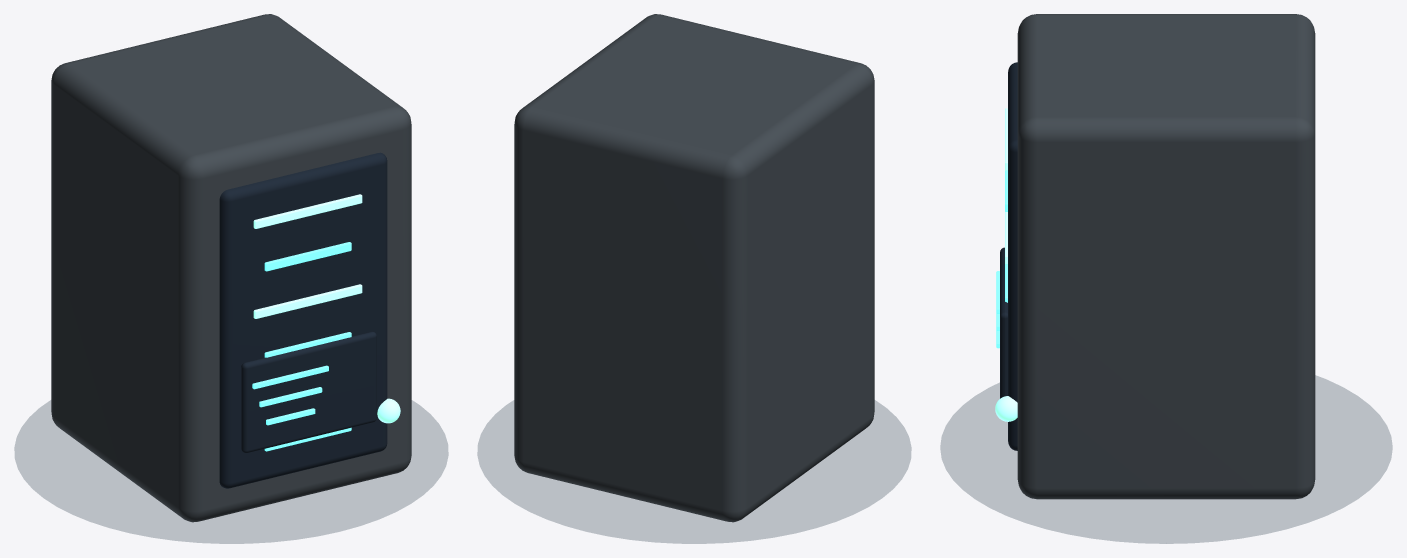
The model's file is server.glb.
3 views of the same model, side by side, from view 1: azimuth 30°, elevation 25°; view 2: azimuth 150°, elevation 25°; view 3: azimuth 270°, elevation 25° (orthographic). The views are drawn at different scales.
Parts seen in each view (by area): view 1: server_rack_shell, server_dark_face, server_contact_shadow, server_terminal, server_led_row_2, server_led_row_0, server_led_row_1, server_led_row_3, server_term_line_0; view 2: server_rack_shell, server_contact_shadow; view 3: server_rack_shell, server_contact_shadow, server_dark_face, server_terminal.
Boxes of the visible parts, x1=… form: server_rack_shell: x1=51, y1=14, x2=411, y2=522; server_dark_face: x1=219, y1=152, x2=387, y2=488; server_contact_shadow: x1=14, y1=400, x2=448, y2=543; server_terminal: x1=241, y1=331, x2=376, y2=453; server_led_row_2: x1=253, y1=284, x2=362, y2=318; server_led_row_0: x1=253, y1=194, x2=362, y2=228; server_led_row_1: x1=264, y1=242, x2=351, y2=271; server_led_row_3: x1=264, y1=332, x2=351, y2=357; server_term_line_0: x1=252, y1=365, x2=328, y2=389; server_rack_shell: x1=514, y1=14, x2=874, y2=522; server_contact_shadow: x1=477, y1=400, x2=911, y2=543; server_rack_shell: x1=1017, y1=14, x2=1315, y2=499; server_contact_shadow: x1=940, y1=375, x2=1392, y2=543; server_dark_face: x1=1008, y1=62, x2=1017, y2=450; server_terminal: x1=1000, y1=247, x2=1007, y2=398.
Size of the model in its own units: 1.4 by 1.3 by 1.4.
